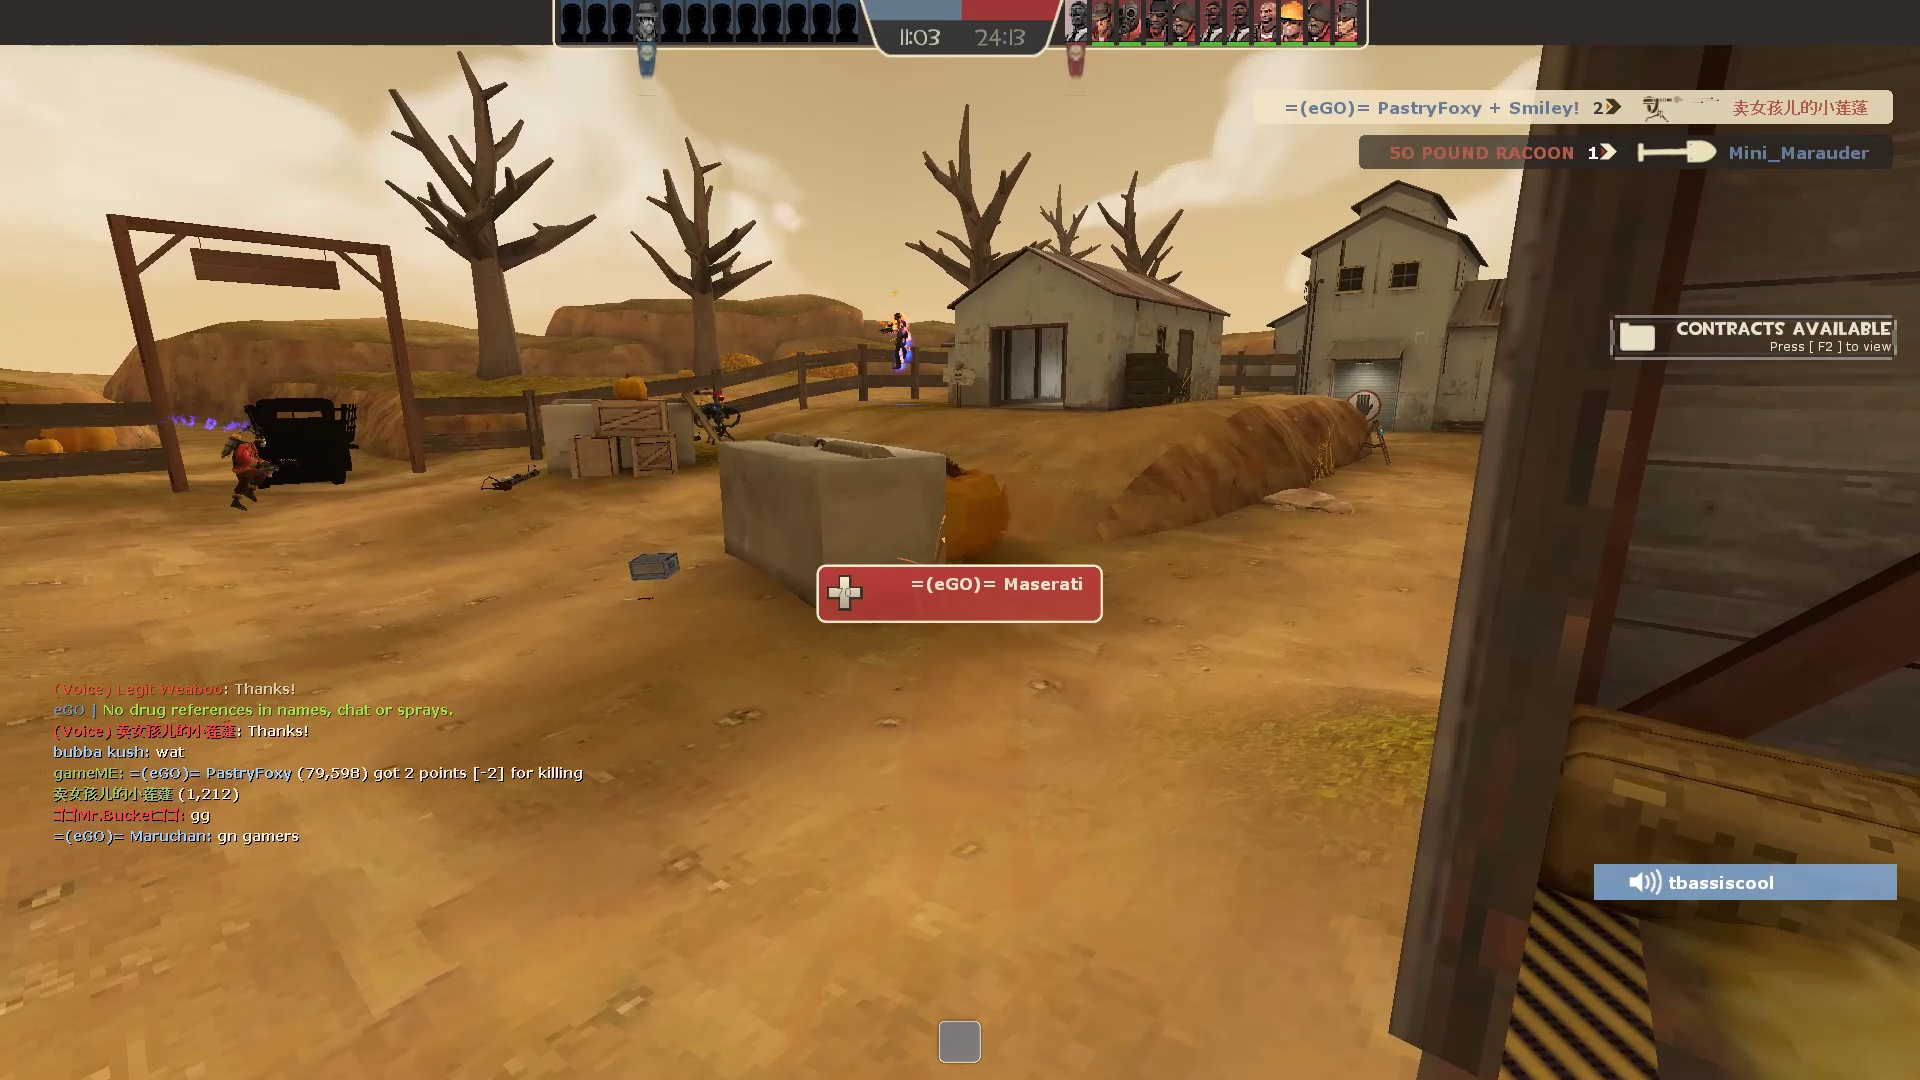blu_sentry_2: (684, 389, 748, 454)
red_pyro: (208, 421, 295, 516)
